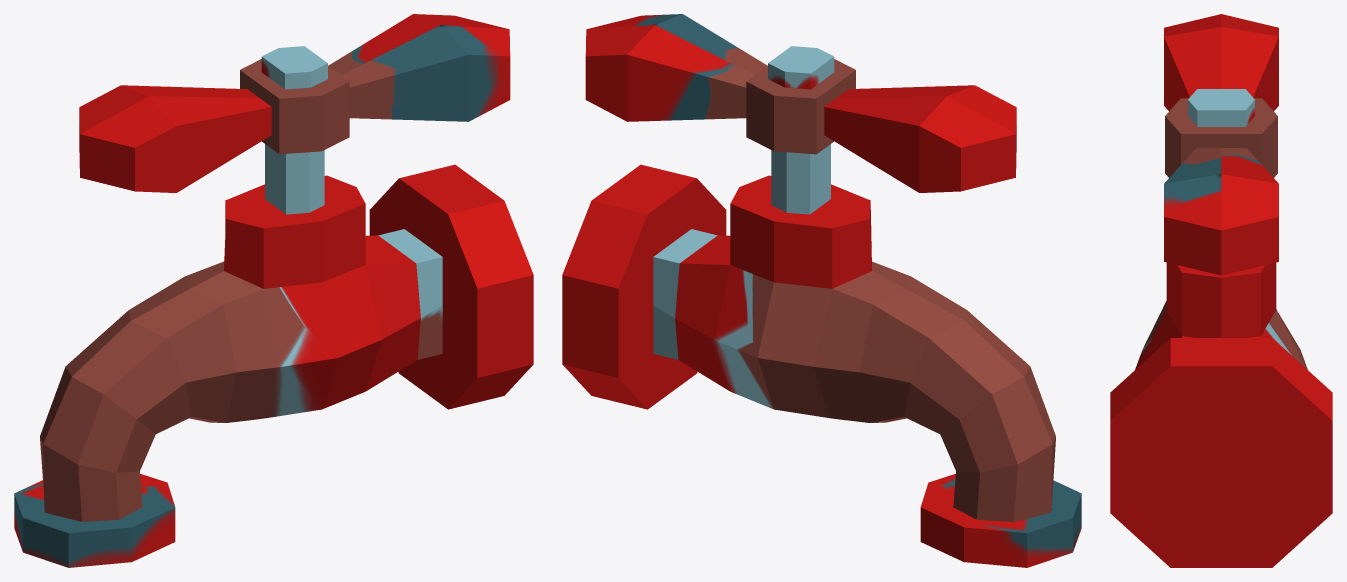
The model's file is Pipe_Texture.fbx.
3 renders of one model, left to right at view 1: azimuth 30°, elevation 25°; view 2: azimuth 150°, elevation 25°; view 3: azimuth 270°, elevation 25°, orthographic. The views are drawn at different scales.
Parts seen in each view (by area): view 1: Pipe; view 2: Pipe; view 3: Pipe.
Boxes of the visible parts, x1,y1,x2,y2 form: Pipe: [14, 14, 533, 567]; Pipe: [562, 14, 1081, 567]; Pipe: [1110, 14, 1332, 567].
Bounding box in the file's own units: 294 × 246 × 113.
